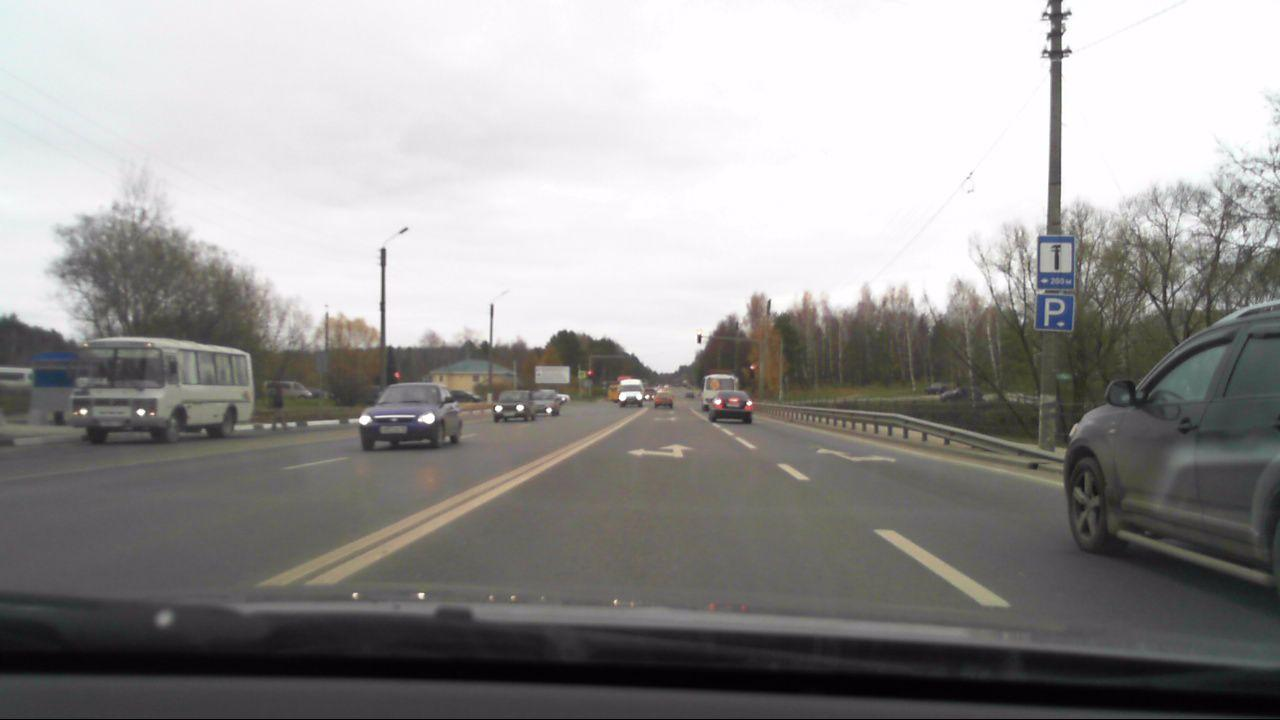6_4: (1039, 294, 1075, 332)
7_4: (1035, 235, 1077, 289)
